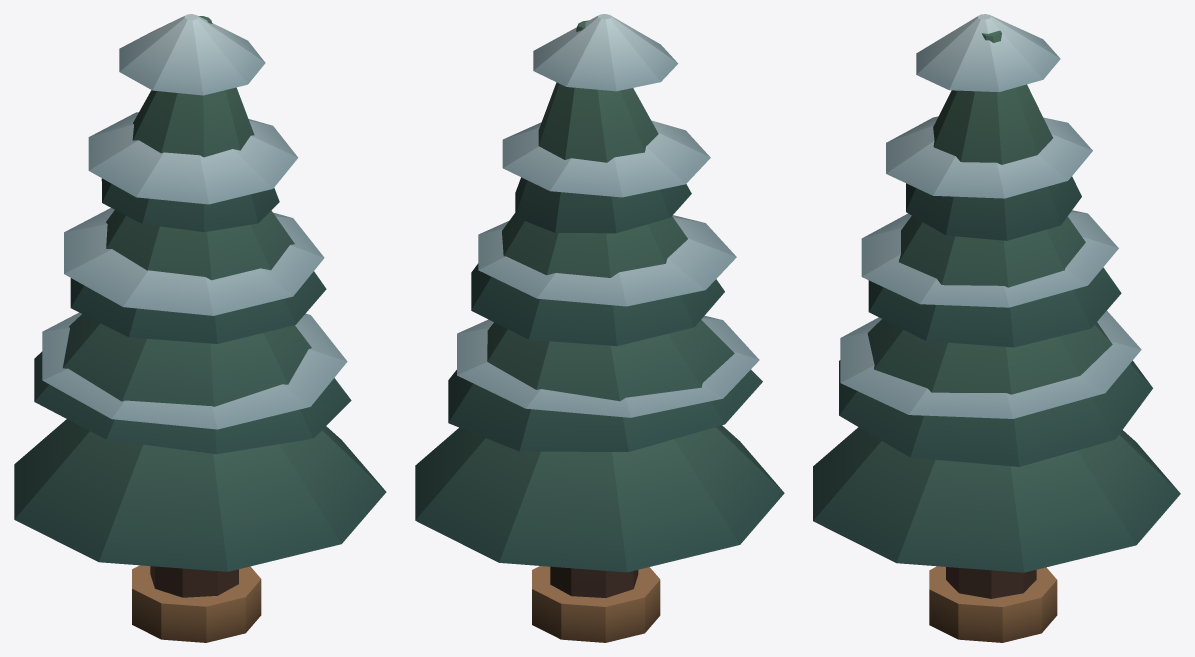
File: pine-young.glb
3 views of the same model, side by side, from view 1: azimuth 30°, elevation 25°; view 2: azimuth 150°, elevation 25°; view 3: azimuth 270°, elevation 25° (orthographic).
Parts seen in each view (by area): view 1: WorldPineYoungR13_R13 Pine Young Needles_Batch, WorldPineYoungR13_R13 Shared Pine Snow_Batch, WorldPineYoungR13_R13 Shared Pine Cut_Batch, WorldPineYoungR13_R13 Shared Pine Bark_Batch; view 2: WorldPineYoungR13_R13 Pine Young Needles_Batch, WorldPineYoungR13_R13 Shared Pine Snow_Batch, WorldPineYoungR13_R13 Shared Pine Cut_Batch, WorldPineYoungR13_R13 Shared Pine Bark_Batch; view 3: WorldPineYoungR13_R13 Pine Young Needles_Batch, WorldPineYoungR13_R13 Shared Pine Snow_Batch, WorldPineYoungR13_R13 Shared Pine Cut_Batch, WorldPineYoungR13_R13 Shared Pine Bark_Batch.
Part boxes in pixels (box(x1,y1,x2,y2)): WorldPineYoungR13_R13 Pine Young Needles_Batch: box(14, 16, 386, 571); WorldPineYoungR13_R13 Shared Pine Snow_Batch: box(42, 14, 347, 429); WorldPineYoungR13_R13 Shared Pine Cut_Batch: box(132, 565, 261, 642); WorldPineYoungR13_R13 Shared Pine Bark_Batch: box(150, 566, 238, 597); WorldPineYoungR13_R13 Pine Young Needles_Batch: box(415, 20, 784, 572); WorldPineYoungR13_R13 Shared Pine Snow_Batch: box(457, 14, 759, 417); WorldPineYoungR13_R13 Shared Pine Cut_Batch: box(532, 566, 660, 642); WorldPineYoungR13_R13 Shared Pine Bark_Batch: box(550, 566, 638, 597); WorldPineYoungR13_R13 Pine Young Needles_Batch: box(813, 30, 1180, 572); WorldPineYoungR13_R13 Shared Pine Snow_Batch: box(840, 14, 1141, 418); WorldPineYoungR13_R13 Shared Pine Cut_Batch: box(929, 566, 1057, 642); WorldPineYoungR13_R13 Shared Pine Bark_Batch: box(946, 567, 1036, 598).
Bounding box in the file's own units: 1.89 × 3.33 × 1.86.
